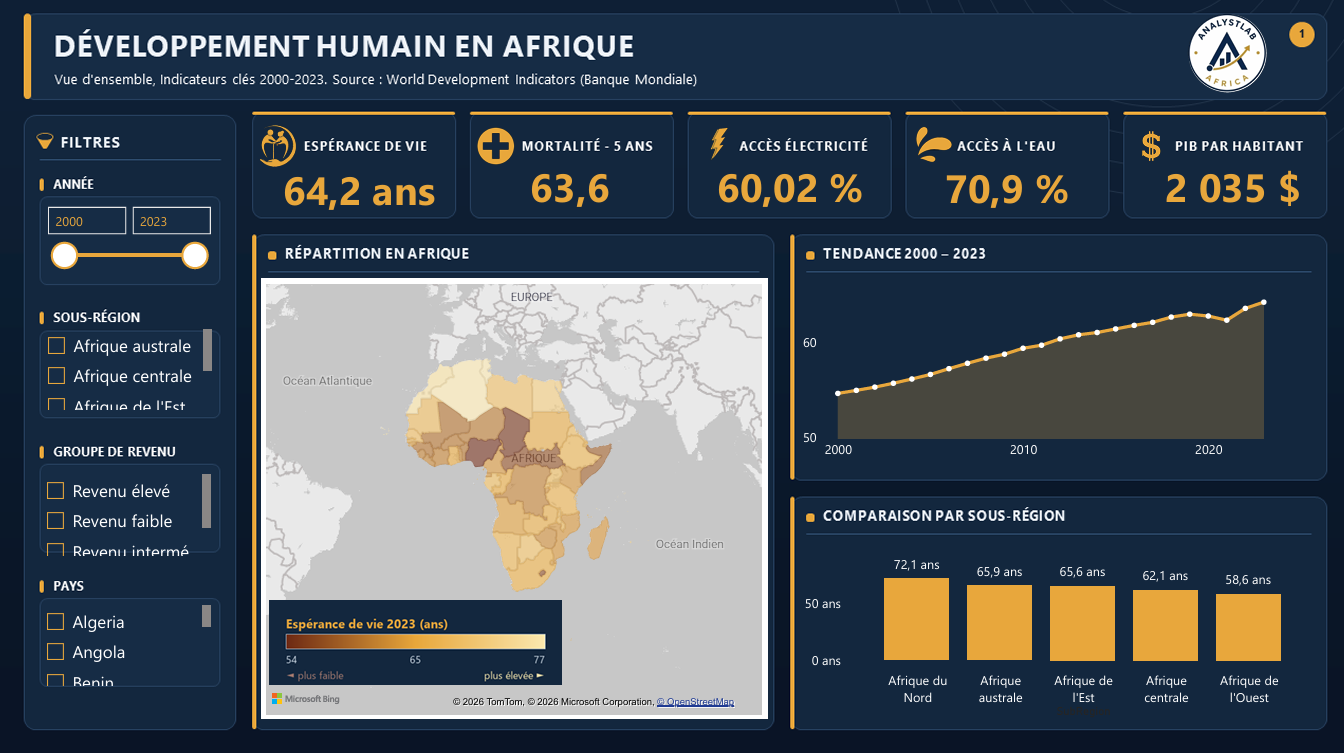

Layout of this report page (visuals, bound fields, positions):
{"tool":"powerbi","page":{"name":"Page 1","canvas":[1280,720],"ordinal":0},"visuals":[{"type":"filledMap","fields":{"Category":["FaitAfrique.Country Code"]},"box":[249.2,267.7,478.4,416.9],"z":0},{"type":"slicer","fields":{"Values":["FaitAfrique.Year"]},"box":[33.6,190.2,173.4,78.3],"z":1000},{"type":"slicer","fields":{"Values":["FaitAfrique.SubRegion"]},"box":[33.6,311.3,173.4,85.8],"z":2000},{"type":"image","box":[1125,10.9,75,87.5],"z":3000},{"type":"image","box":[240.5,115.6,48.5,52.2],"z":4000},{"type":"image","box":[449.3,115.6,42.9,52.2],"z":5000},{"type":"image","box":[662.1,121.2,42.4,40.9],"z":6000},{"type":"image","box":[863.6,116.7,42.4,47],"z":7000},{"type":"image","box":[1072.7,124.2,34.8,36.4],"z":8000},{"type":"slicer","fields":{"Values":["FaitAfrique.IncomeGroupFR"]},"box":[33.3,448.5,172.7,86.4],"z":9000},{"type":"slicer","fields":{"Values":["FaitAfrique.Country"]},"box":[32.8,571.9,173.4,85.9],"z":10000},{"type":"card","fields":{"Values":["_Mesures.Espérance de vie (dernière année)"]},"box":[262.5,159.4,156.2,48.4],"z":11000},{"type":"card","fields":{"Values":["_Mesures.Mortalité -5 ans (dernière année)"]},"box":[470.3,156.2,140.6,48.4],"z":12000},{"type":"card","fields":{"Values":["_Mesures.Accès électricité (dernière année)"]},"box":[658.5,156.9,181.5,47.7],"z":13000},{"type":"card","fields":{"Values":["_Mesures.Accès eau (dernière année)"]},"box":[889.1,157.8,129.7,48.4],"z":14000},{"type":"card","fields":{"Values":["_Mesures.PIB par habitant (dernière année)"]},"box":[1098.4,156.2,139.1,48.4],"z":15000},{"type":"lineChart","fields":{"Category":["FaitAfrique.Year"],"Y":["_Mesures.Espérance de vie"]},"box":[756.2,268.8,493.7,179.7],"z":16000},{"type":"image","box":[249.2,572.3,290.8,80],"z":17000},{"type":"clusteredColumnChart","fields":{"Category":["FaitAfrique.SubRegion"],"Y":["_Mesures.Espérance de vie (dernière année)"]},"box":[756.9,513.8,493.8,173.8],"z":18000}]}

Visuals, with their boxes in screenshot pixels (x1, y1, x2, y2), scaled from the page's 1280x720 canvas onto the 1344x753 screenshot:
filledMap - FaitAfrique.Country Code: 262 280 764 716
slicer - FaitAfrique.Year: 35 199 217 281
slicer - FaitAfrique.SubRegion: 35 326 217 415
image: 1181 11 1260 103
image: 253 121 303 175
image: 472 121 517 175
image: 695 127 740 170
image: 907 122 951 171
image: 1126 130 1163 168
slicer - FaitAfrique.IncomeGroupFR: 35 469 216 559
slicer - FaitAfrique.Country: 34 598 217 688
card - _Mesures.Espérance de vie (dernière année): 276 167 440 217
card - _Mesures.Mortalité -5 ans (dernière année): 494 163 641 214
card - _Mesures.Accès électricité (dernière année): 691 164 882 214
card - _Mesures.Accès eau (dernière année): 934 165 1070 216
card - _Mesures.PIB par habitant (dernière année): 1153 163 1299 214
lineChart - FaitAfrique.Year x _Mesures.Espérance de vie: 794 281 1312 469
image: 262 599 567 682
clusteredColumnChart - FaitAfrique.SubRegion x _Mesures.Espérance de vie (dernière année): 795 537 1313 719
